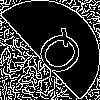Q: (25, 25, 90, 86)
